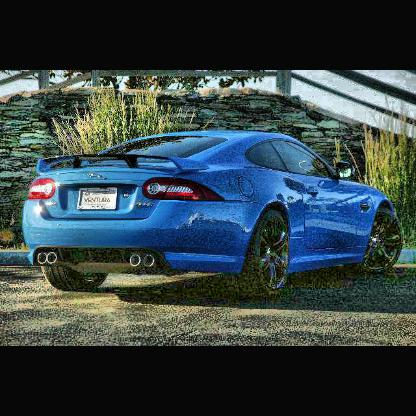Jaguar XK XKR 2012: (23, 130, 403, 297)
